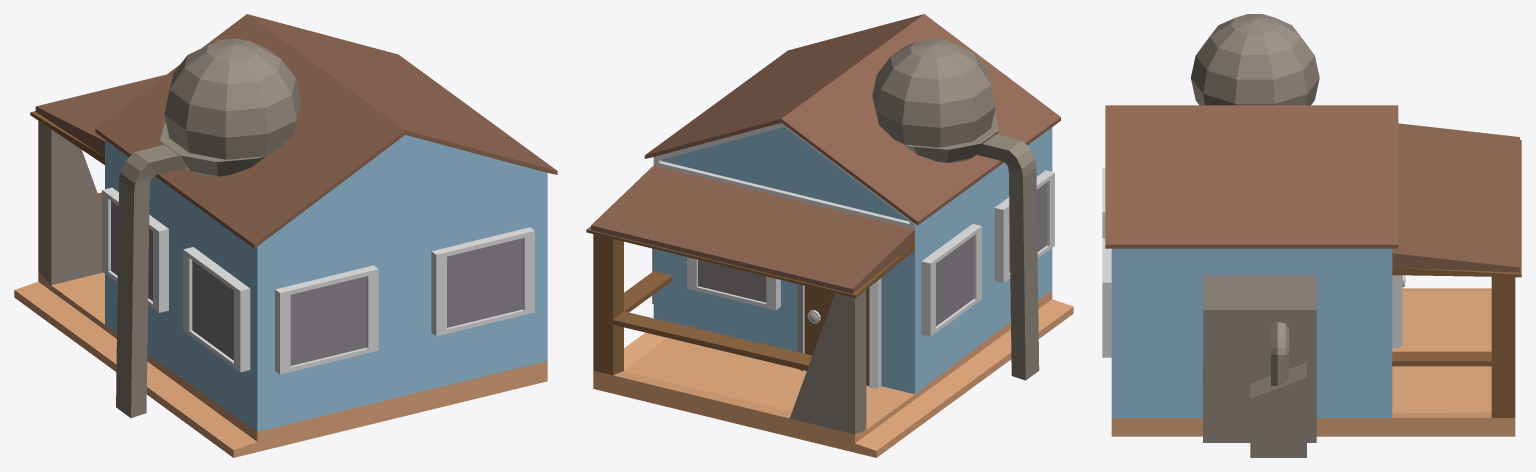
The model's file is house2.fbx.
The picture shows the model from 3 angles, left to right: view 1: azimuth 30°, elevation 25°; view 2: azimuth 150°, elevation 25°; view 3: azimuth 270°, elevation 25°; orthographic projection. The views are drawn at different scales.
Visible parts, largest first — view 1: house, b_window, r_window; view 2: house, r_window, door, f_window; view 3: house, b_window, f_window.
Boxes of the visible parts, left/top/right/bottom form: house: left=14, top=14, right=557, bottom=457; b_window: left=275, top=227, right=534, bottom=374; r_window: left=102, top=187, right=250, bottom=372; house: left=586, top=14, right=1073, bottom=457; r_window: left=921, top=170, right=1054, bottom=336; door: left=797, top=278, right=881, bottom=388; f_window: left=687, top=257, right=780, bottom=310; house: left=1105, top=14, right=1521, bottom=457; b_window: left=1102, top=168, right=1111, bottom=357; f_window: left=1392, top=275, right=1402, bottom=346.
Size of the model in its own units: 701 by 581 by 702.
